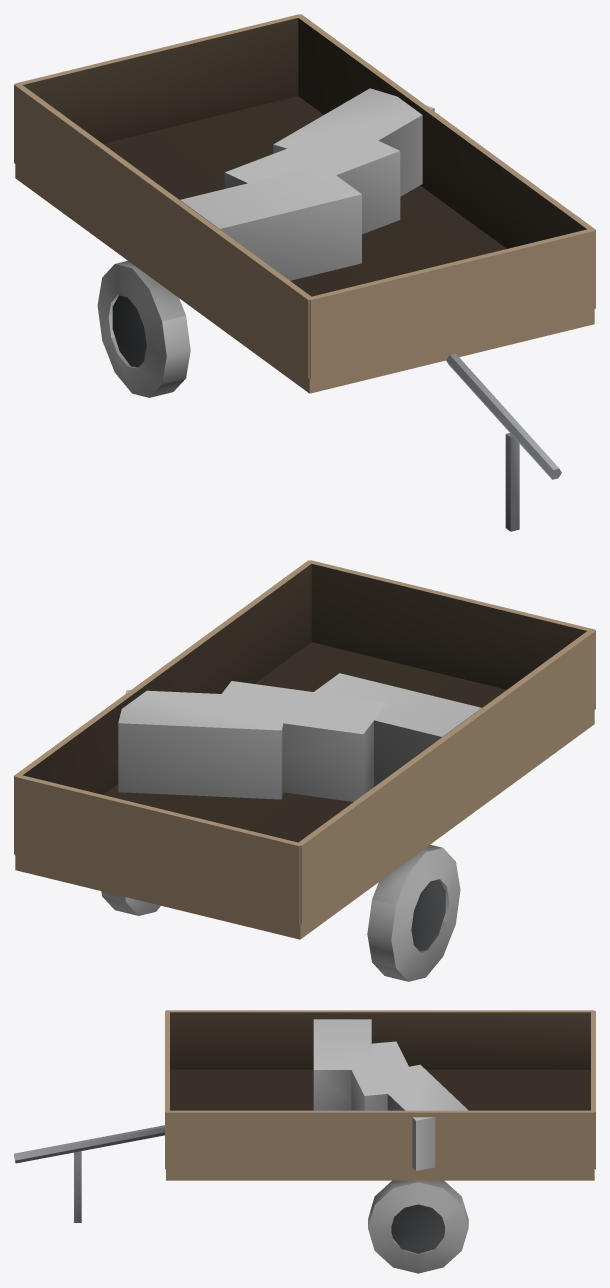
File: trailer.glb
3 renders of one model, top to bottom at view 1: azimuth 30°, elevation 25°; view 2: azimuth 150°, elevation 25°; view 3: azimuth 270°, elevation 25°, orthographic. The views are drawn at different scales.
Parts seen in each view (by area): view 1: trailer; view 2: trailer; view 3: trailer.
Boxes of the visible parts, x1,y1,x2,y2 form: trailer: [14, 14, 595, 531]; trailer: [14, 560, 595, 981]; trailer: [14, 1010, 595, 1273].
Bounding box in the file's own units: 2.04 × 1.4 × 4.62.
